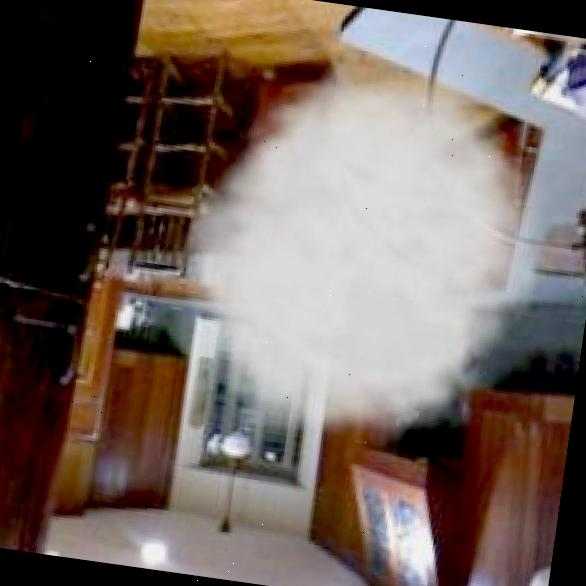smoke: (146, 33, 584, 483)
